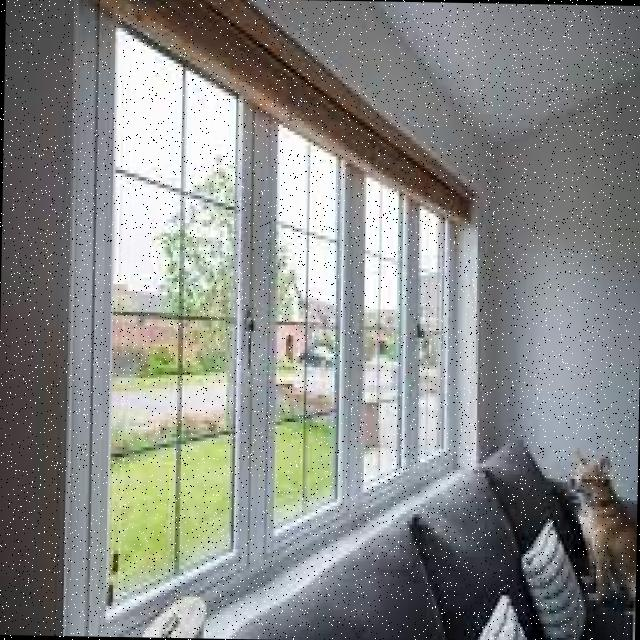Window: (89, 8, 255, 620), (263, 98, 351, 546), (358, 165, 412, 512)
